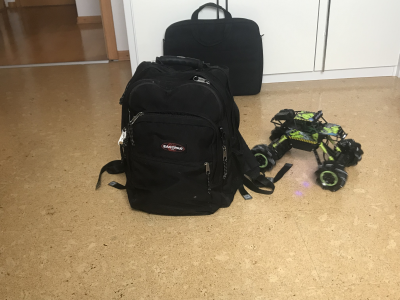remote control car: (250, 104, 366, 194)
